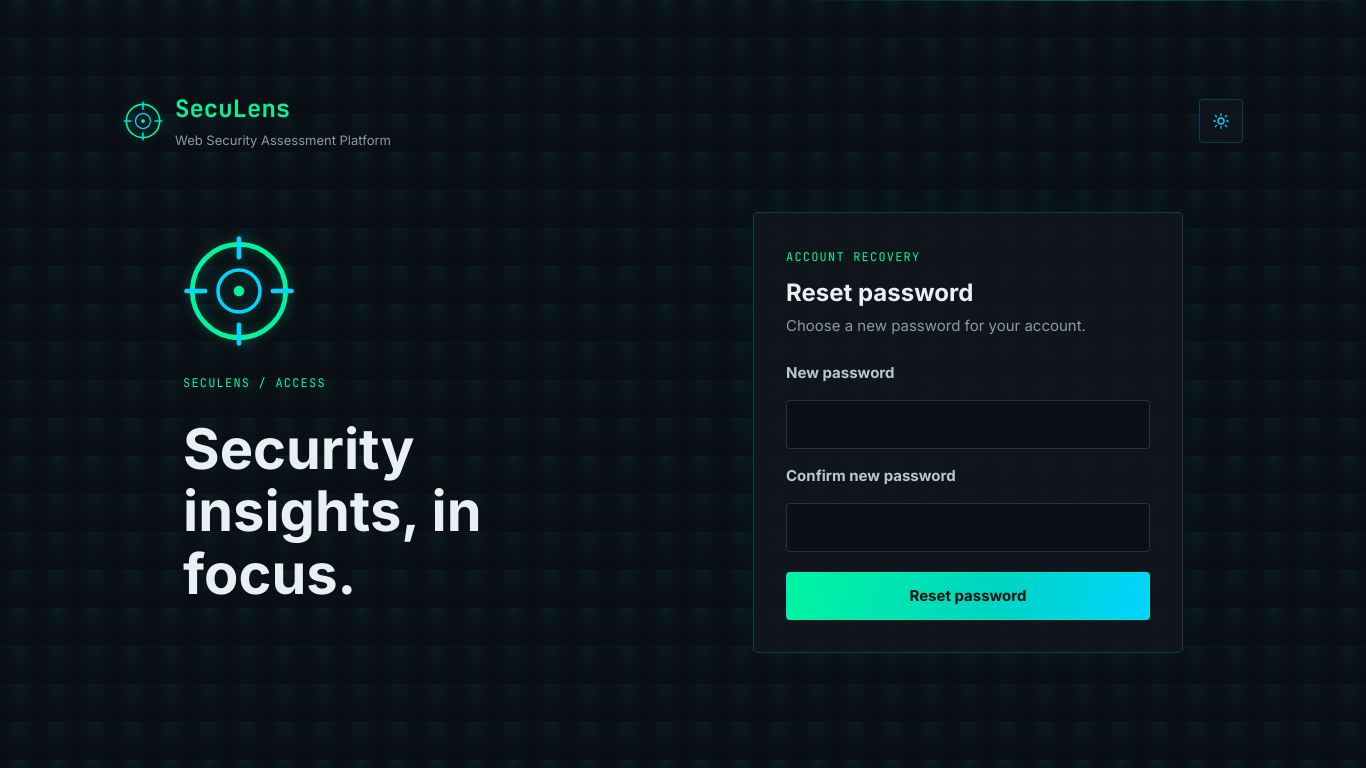
Test: shows reset form for a saved session and displays the server error
Expected: the heading "Reset password" is shown, x1=786 y1=278 x2=973 y2=307
Type "new-password-123" into the password field labelled "New password" at (968, 424), box x1=786 y1=400 x2=1150 y2=449
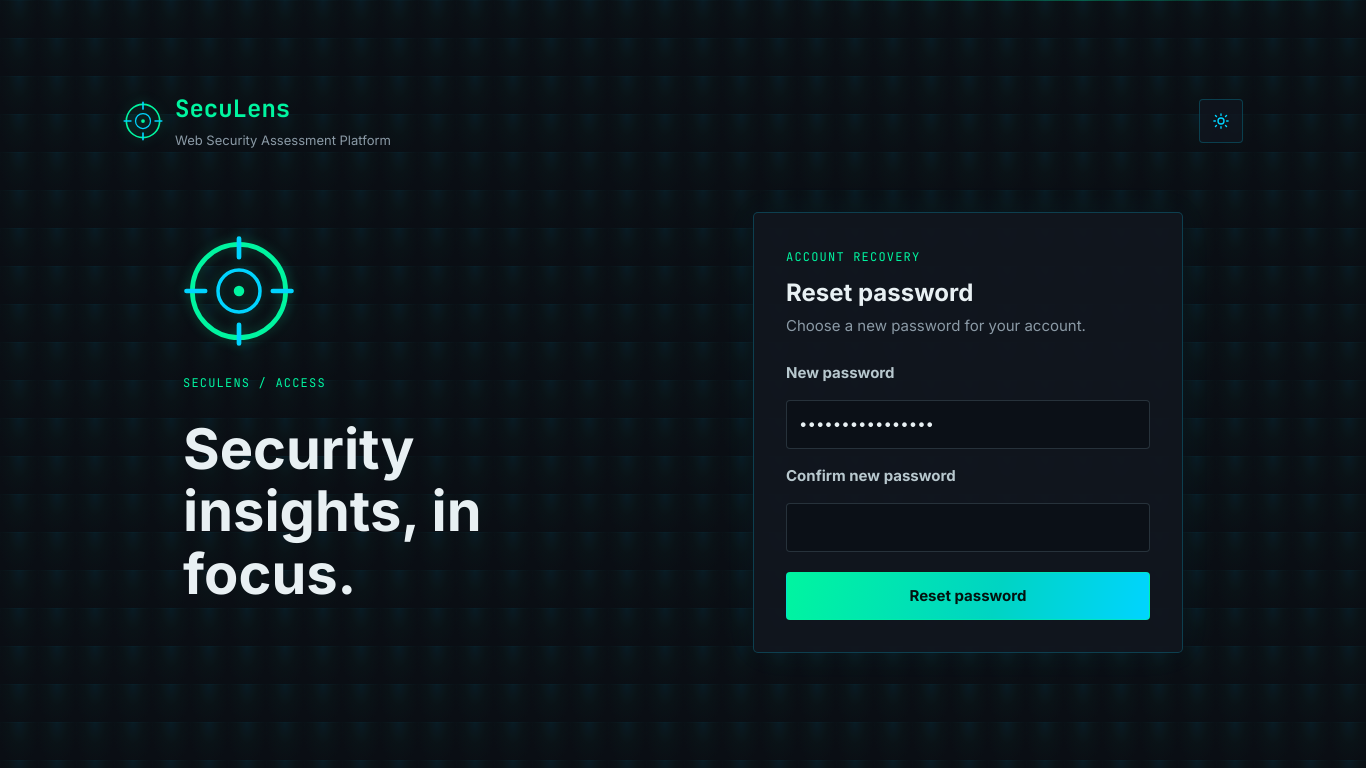
Type "new-password-123" into the password field labelled "Confirm new password" at (968, 527), box x1=786 y1=503 x2=1150 y2=552
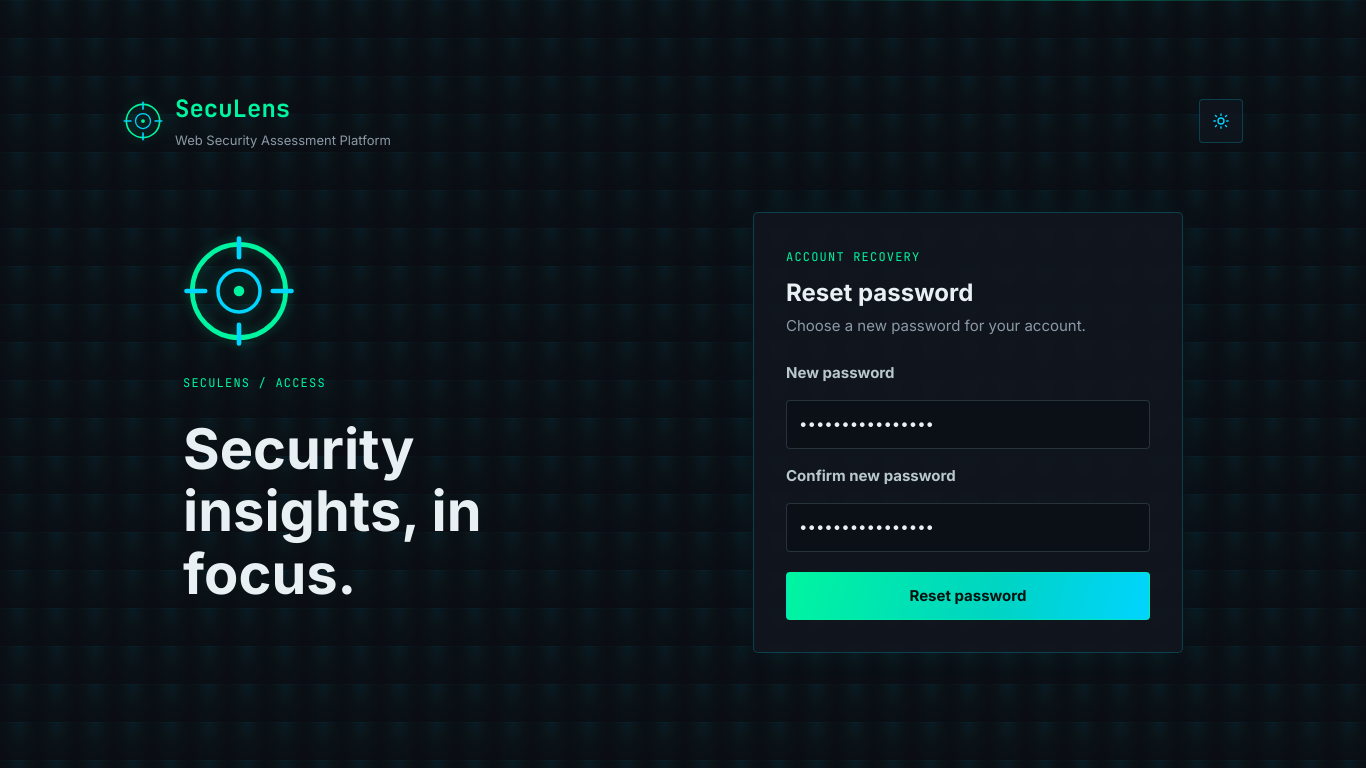
Click the button "Reset password" at (968, 596), box x1=786 y1=572 x2=1150 y2=620
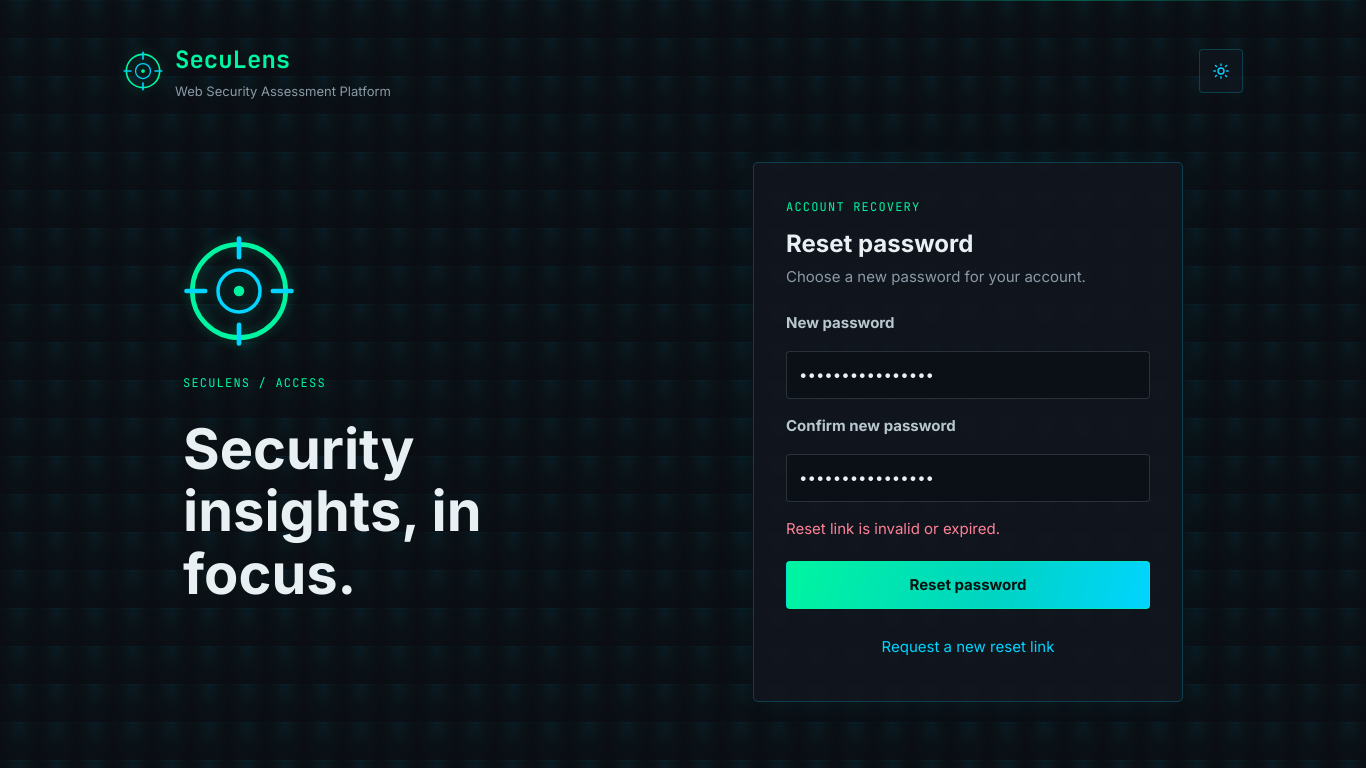
Expected: the message reads "Reset link is invalid or expired.", x1=786 y1=520 x2=1000 y2=538
Expected: the button "Request a new reset link" is shown, x1=878 y1=626 x2=1058 y2=670
